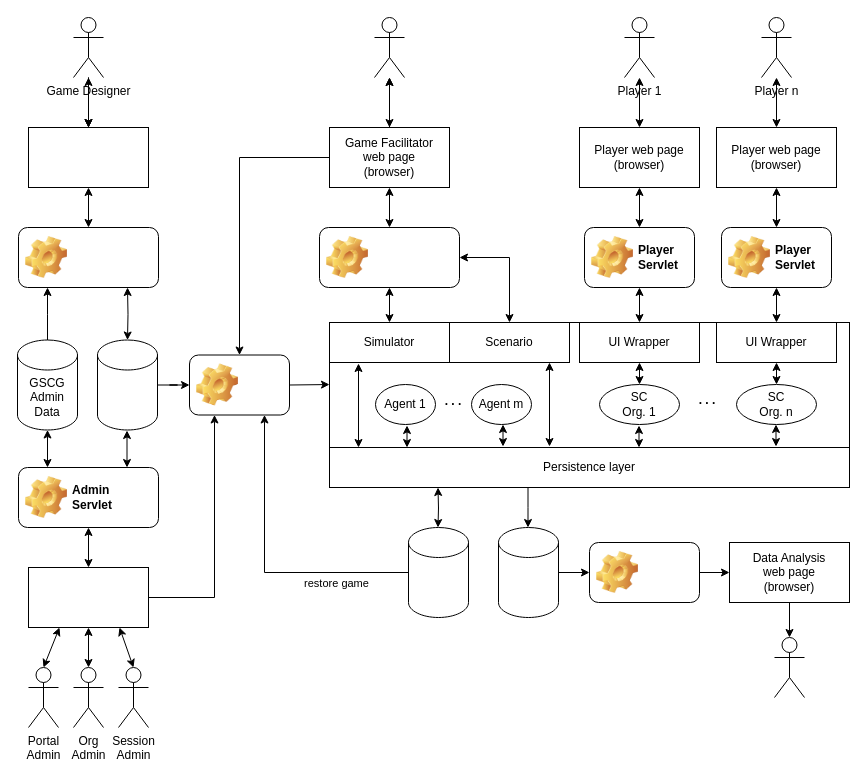
This 867x781 diagram has some shape labels left out. Here are the shapes that lost their labels. From the top down, the centre of each, then its label:
At pixel 389 47: "Game Facilitator".
At pixel 88 157: "Game Designer web page (browser)".
At pixel 88 257: "Game Design Servlet".
At pixel 389 257: "Facilitator Servlet".
At pixel 127 384: "Game Design Data".
At pixel 239 384: "Model Factory".
At pixel 438 572: "Game State Data".
At pixel 528 572: "Game Play Data".
At pixel 644 572: "Data Analysis Servlet".
At pixel 88 597: "Admin web page (browser)".
At pixel 789 667: "Data Analyst".
